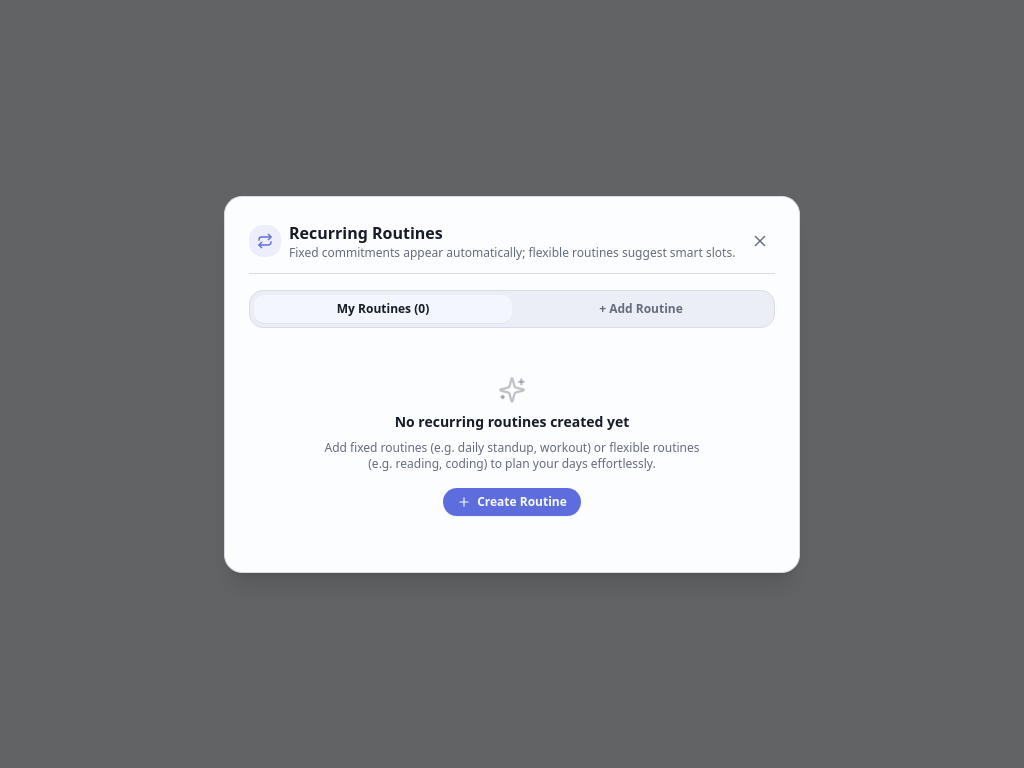
Test: Agent 2: Visual Time Blocking & Pomodoro Experience › 4. Recurring Routines Management › supports creating fixed and flexible routines and handles skip exceptions
Switch to create tab
Click the button "+ Add Routine" at coordinates (641, 308), box [512,294,770,322]
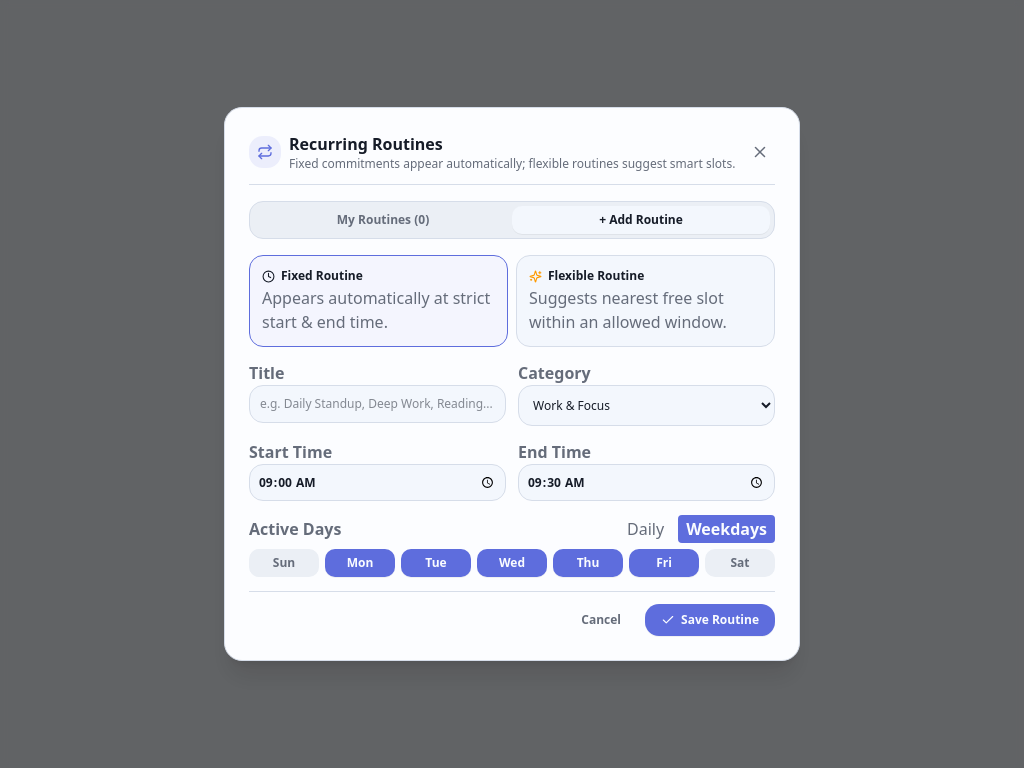
Fixed Routine creation
Type "Morning Team Sync" into the field with placeholder "e.g. Daily Standup, Deep Work, Reading..." at coordinates (378, 404), box [249,385,506,423]
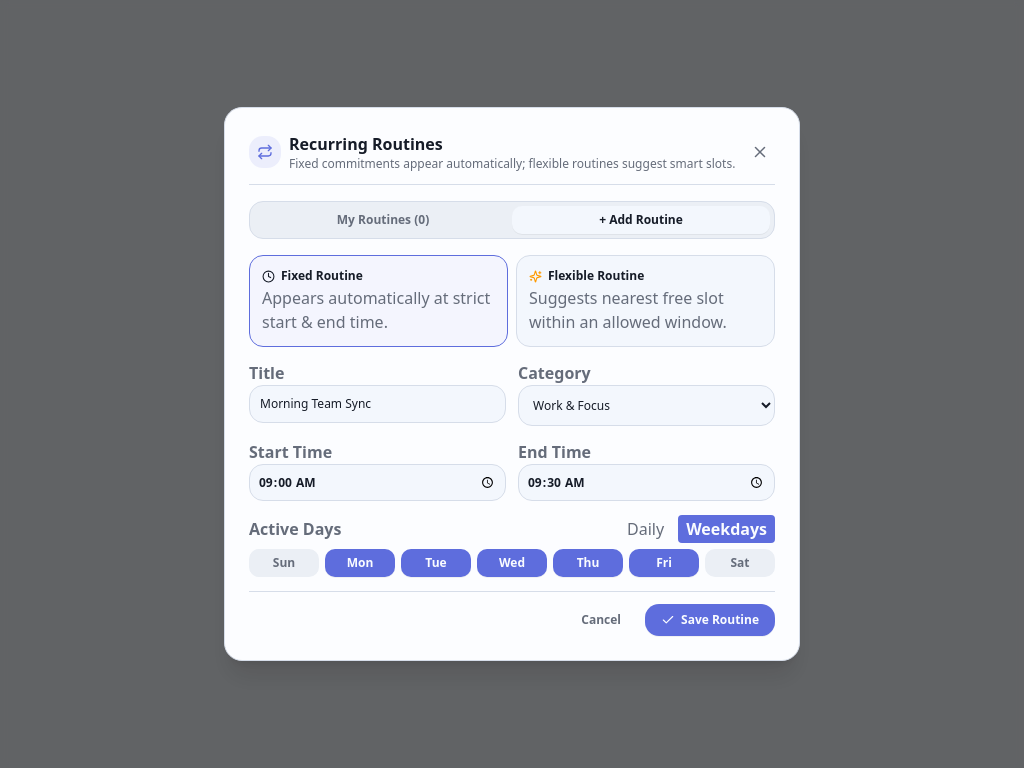
Click the button "Save Routine" at coordinates (710, 620), box [645,604,775,636]
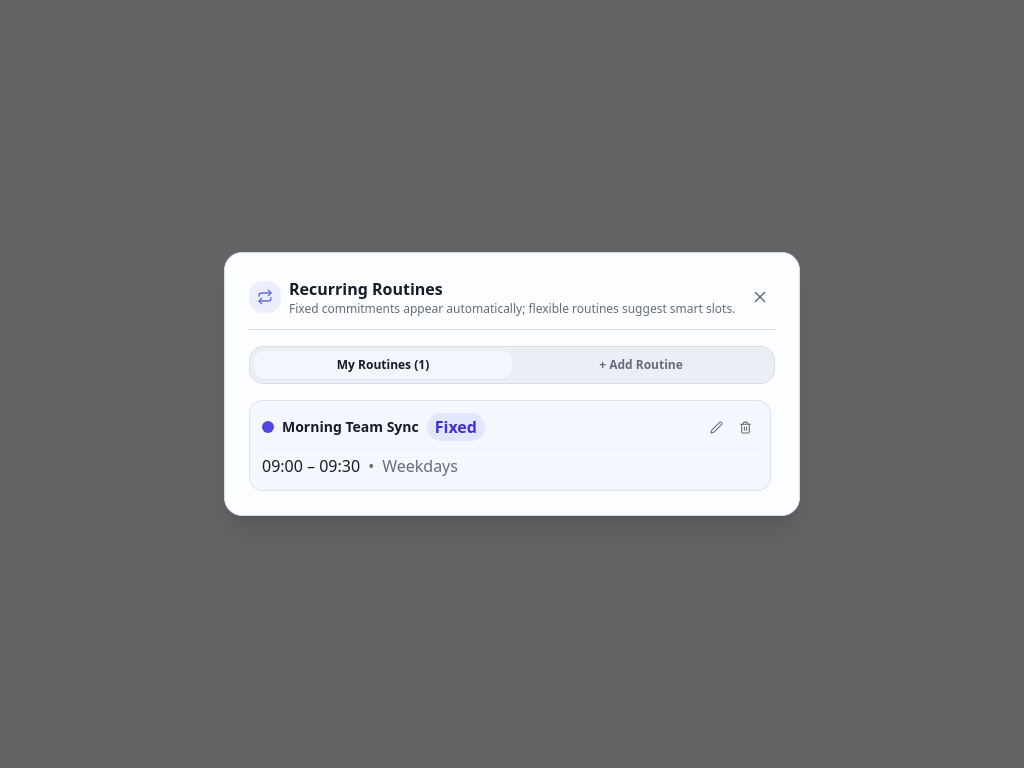
Expected: the text "Fixed" is shown, [427,413,485,441]
Expected: the text "Morning Team Sync" is shown, [282,417,419,437]
